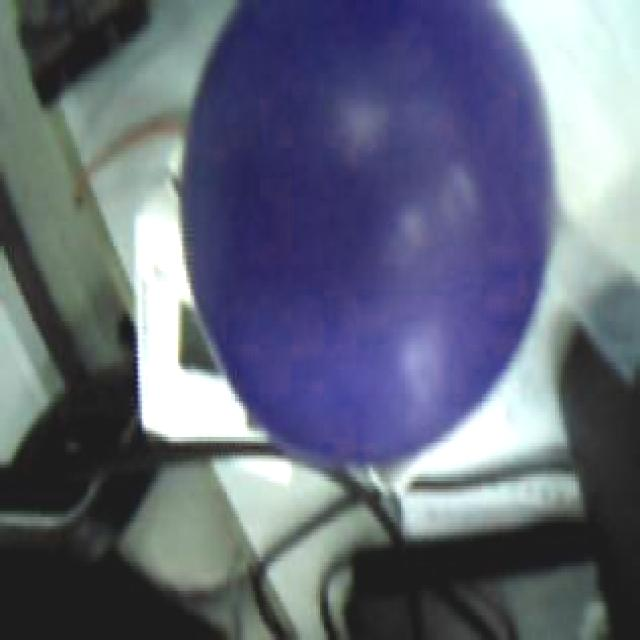BallPurple: (182, 0, 555, 462)
